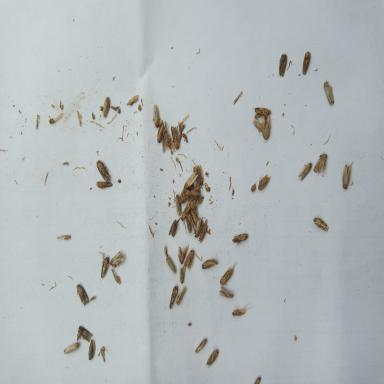pbw: (342, 160, 353, 190), (96, 160, 111, 182), (162, 130, 175, 154), (76, 284, 90, 306), (98, 251, 109, 278), (232, 302, 251, 317), (298, 161, 312, 181), (177, 243, 190, 264), (314, 153, 327, 174), (192, 164, 204, 186), (260, 116, 271, 139), (205, 348, 219, 366), (110, 250, 124, 268), (324, 80, 334, 105), (313, 217, 329, 232), (278, 53, 288, 77), (157, 120, 167, 144), (170, 124, 179, 150), (181, 201, 193, 220), (232, 232, 248, 246), (78, 325, 92, 341), (184, 249, 195, 269), (99, 345, 111, 363), (302, 51, 311, 75), (218, 286, 234, 299), (185, 172, 198, 188), (258, 174, 271, 190), (254, 106, 271, 118), (63, 342, 80, 354), (194, 338, 208, 352), (169, 285, 177, 309), (102, 95, 110, 119), (152, 104, 160, 128), (194, 218, 204, 237), (198, 224, 208, 243), (174, 193, 182, 216), (191, 196, 204, 210), (186, 214, 195, 234), (168, 218, 178, 236), (88, 338, 96, 360), (176, 287, 186, 304), (252, 118, 263, 133), (202, 259, 218, 269), (166, 256, 176, 272), (179, 185, 187, 204), (185, 189, 201, 198), (190, 207, 198, 224), (96, 181, 113, 189), (179, 266, 185, 284), (255, 376, 263, 384)
